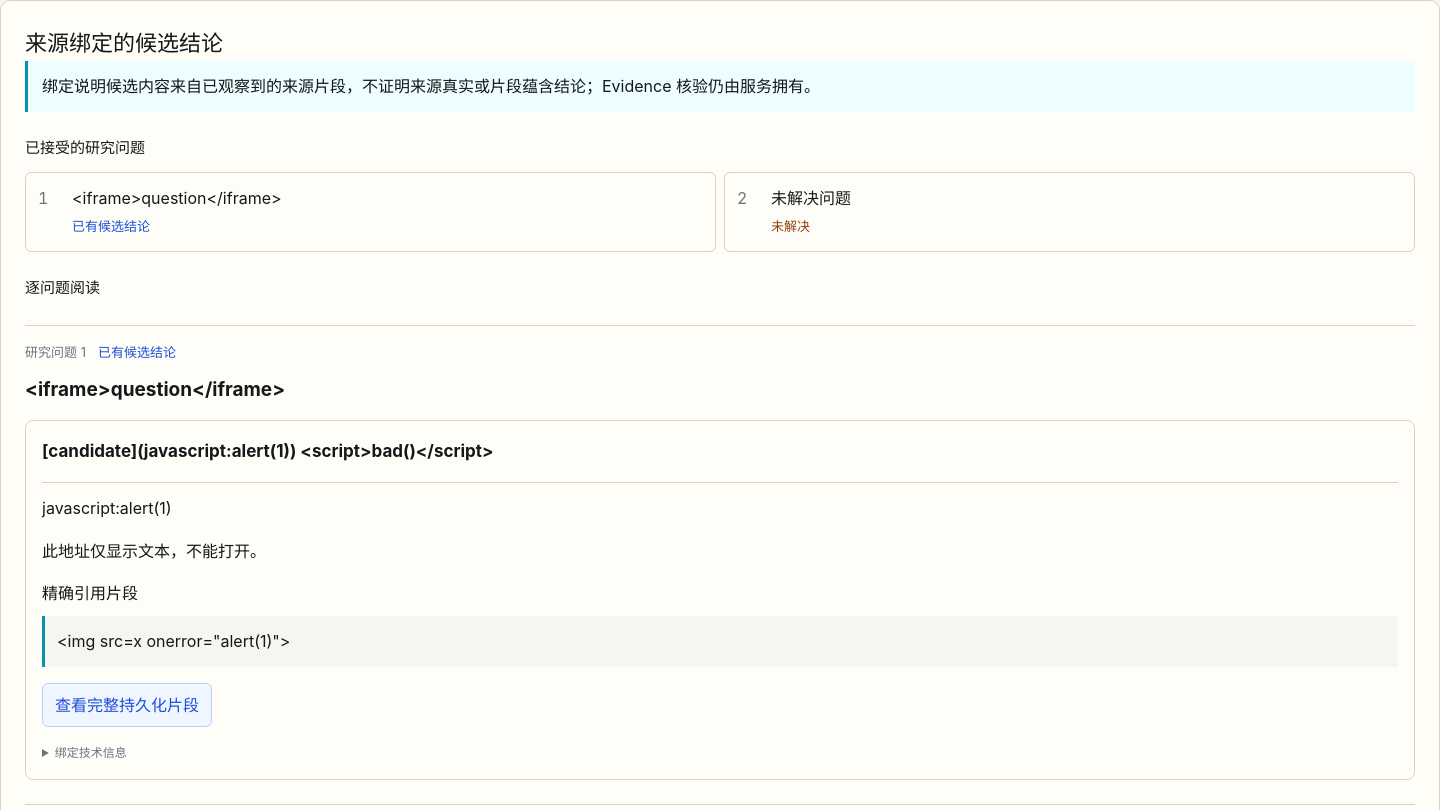
structured source inspection › renders every model/source string as text and suppresses unsafe source actions
The width and height of the screenshot is (1440, 810).
Check: the text "[candidate](javascript:alert(1)) <script>bad()</script>" is shown, box [42,441,494,461]
Check: the text "<iframe>question</iframe>" is shown 2 times, box [72,188,282,208]; [25,378,285,401]
Click the button "查看完整持久化片段". click: (127, 705)
box: [42,683,212,727]
(page scrolled)
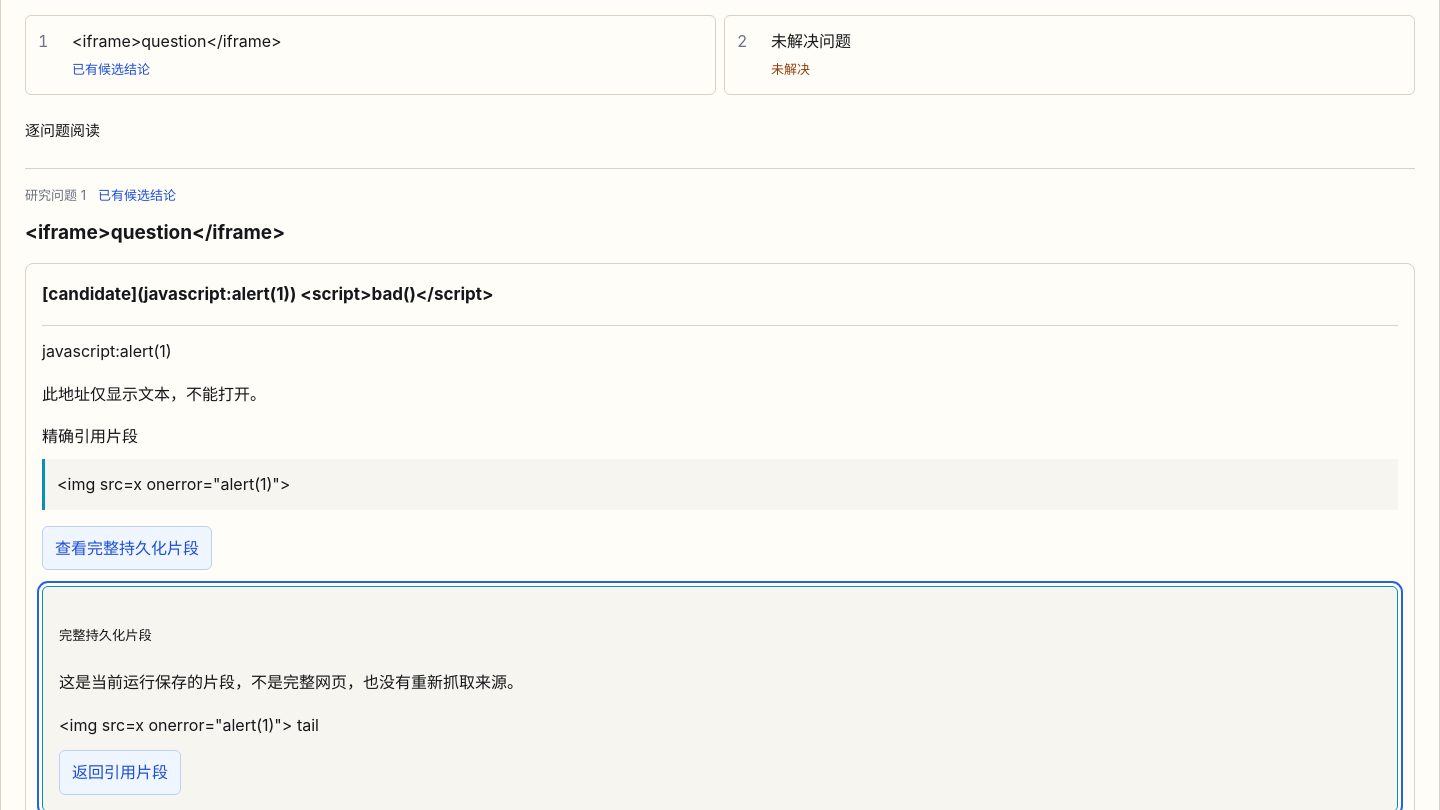
Check: the text "<img src=x onerror=\"alert(1)\"> tail" is shown, box [59,715,319,735]
